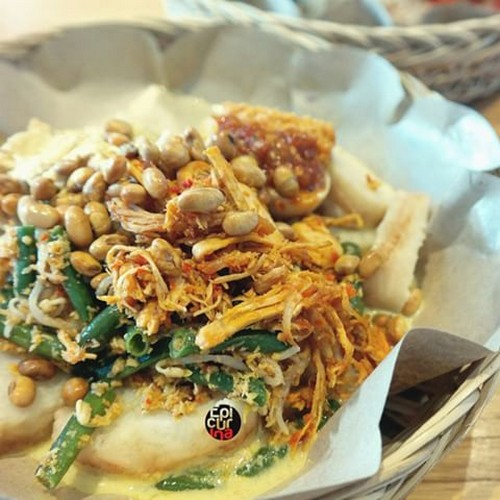tipat blayag: (21, 99, 393, 440)
